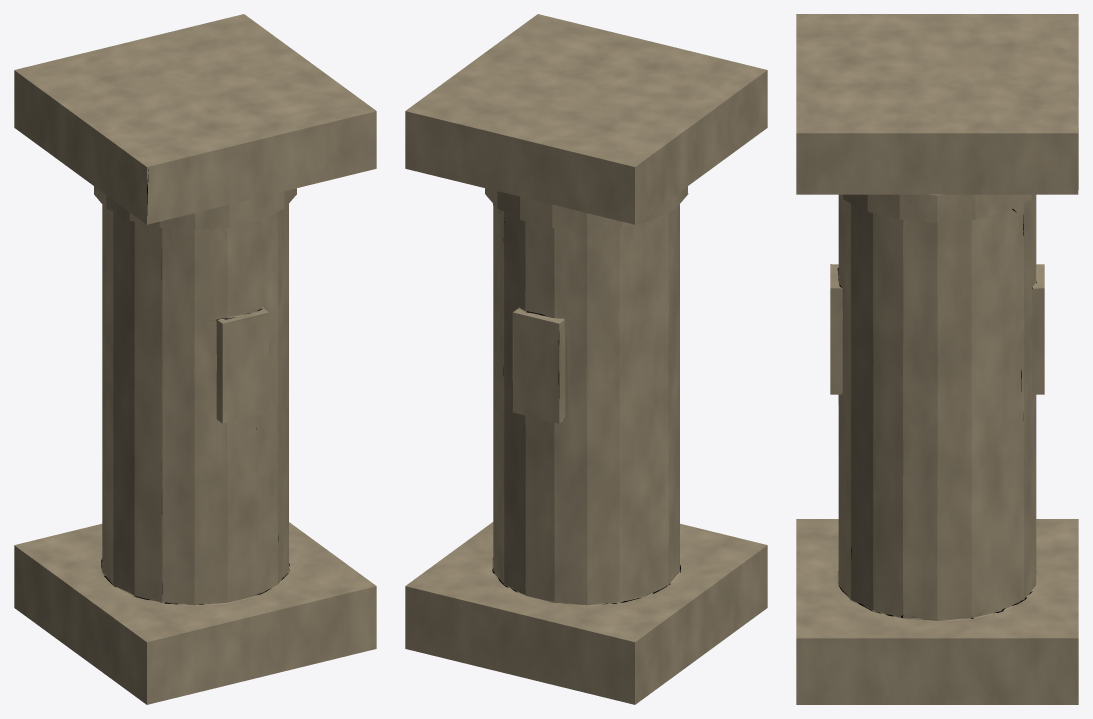
Rendered from column.glb.
3 renders of one model, left to right at view 1: azimuth 30°, elevation 25°; view 2: azimuth 150°, elevation 25°; view 3: azimuth 270°, elevation 25°, orthographic. The views are drawn at different scales.
Visible parts, largest first — view 1: base.002; view 2: base.002; view 3: base.002.
Part boxes in pixels (bbox=[...]): base.002: bbox=[14, 14, 376, 704]; base.002: bbox=[405, 14, 767, 704]; base.002: bbox=[796, 14, 1078, 704].
Bounding box in the file's own units: 0.8503 × 1.9 × 0.8499.
1 material, 1 textured.
